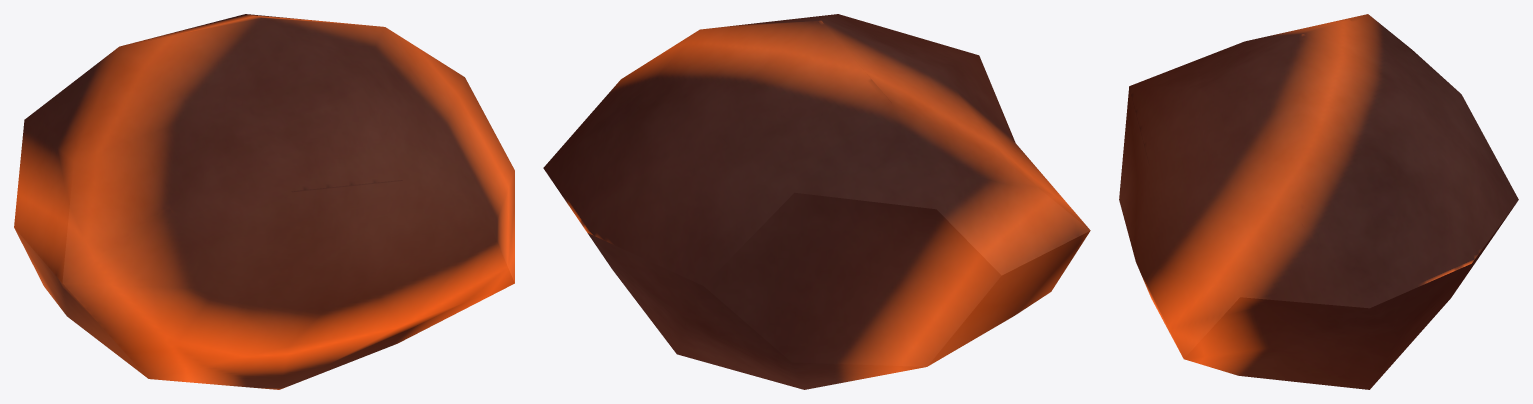
The model's file is SM_Coal_B.glb.
The picture shows the model from 3 angles, left to right: view 1: azimuth 30°, elevation 25°; view 2: azimuth 150°, elevation 25°; view 3: azimuth 270°, elevation 25°; orthographic projection. The views are drawn at different scales.
Parts seen in each view (by area): view 1: SM_Coal_B; view 2: SM_Coal_B; view 3: SM_Coal_B.
Part boxes in pixels (left/top/right/bottom): SM_Coal_B: left=14, top=14, right=514, bottom=389; SM_Coal_B: left=543, top=14, right=1090, bottom=389; SM_Coal_B: left=1119, top=14, right=1518, bottom=389.
Bounding box in the file's own units: 0.0511 × 0.0342 × 0.0404.
1 material, 1 textured.
